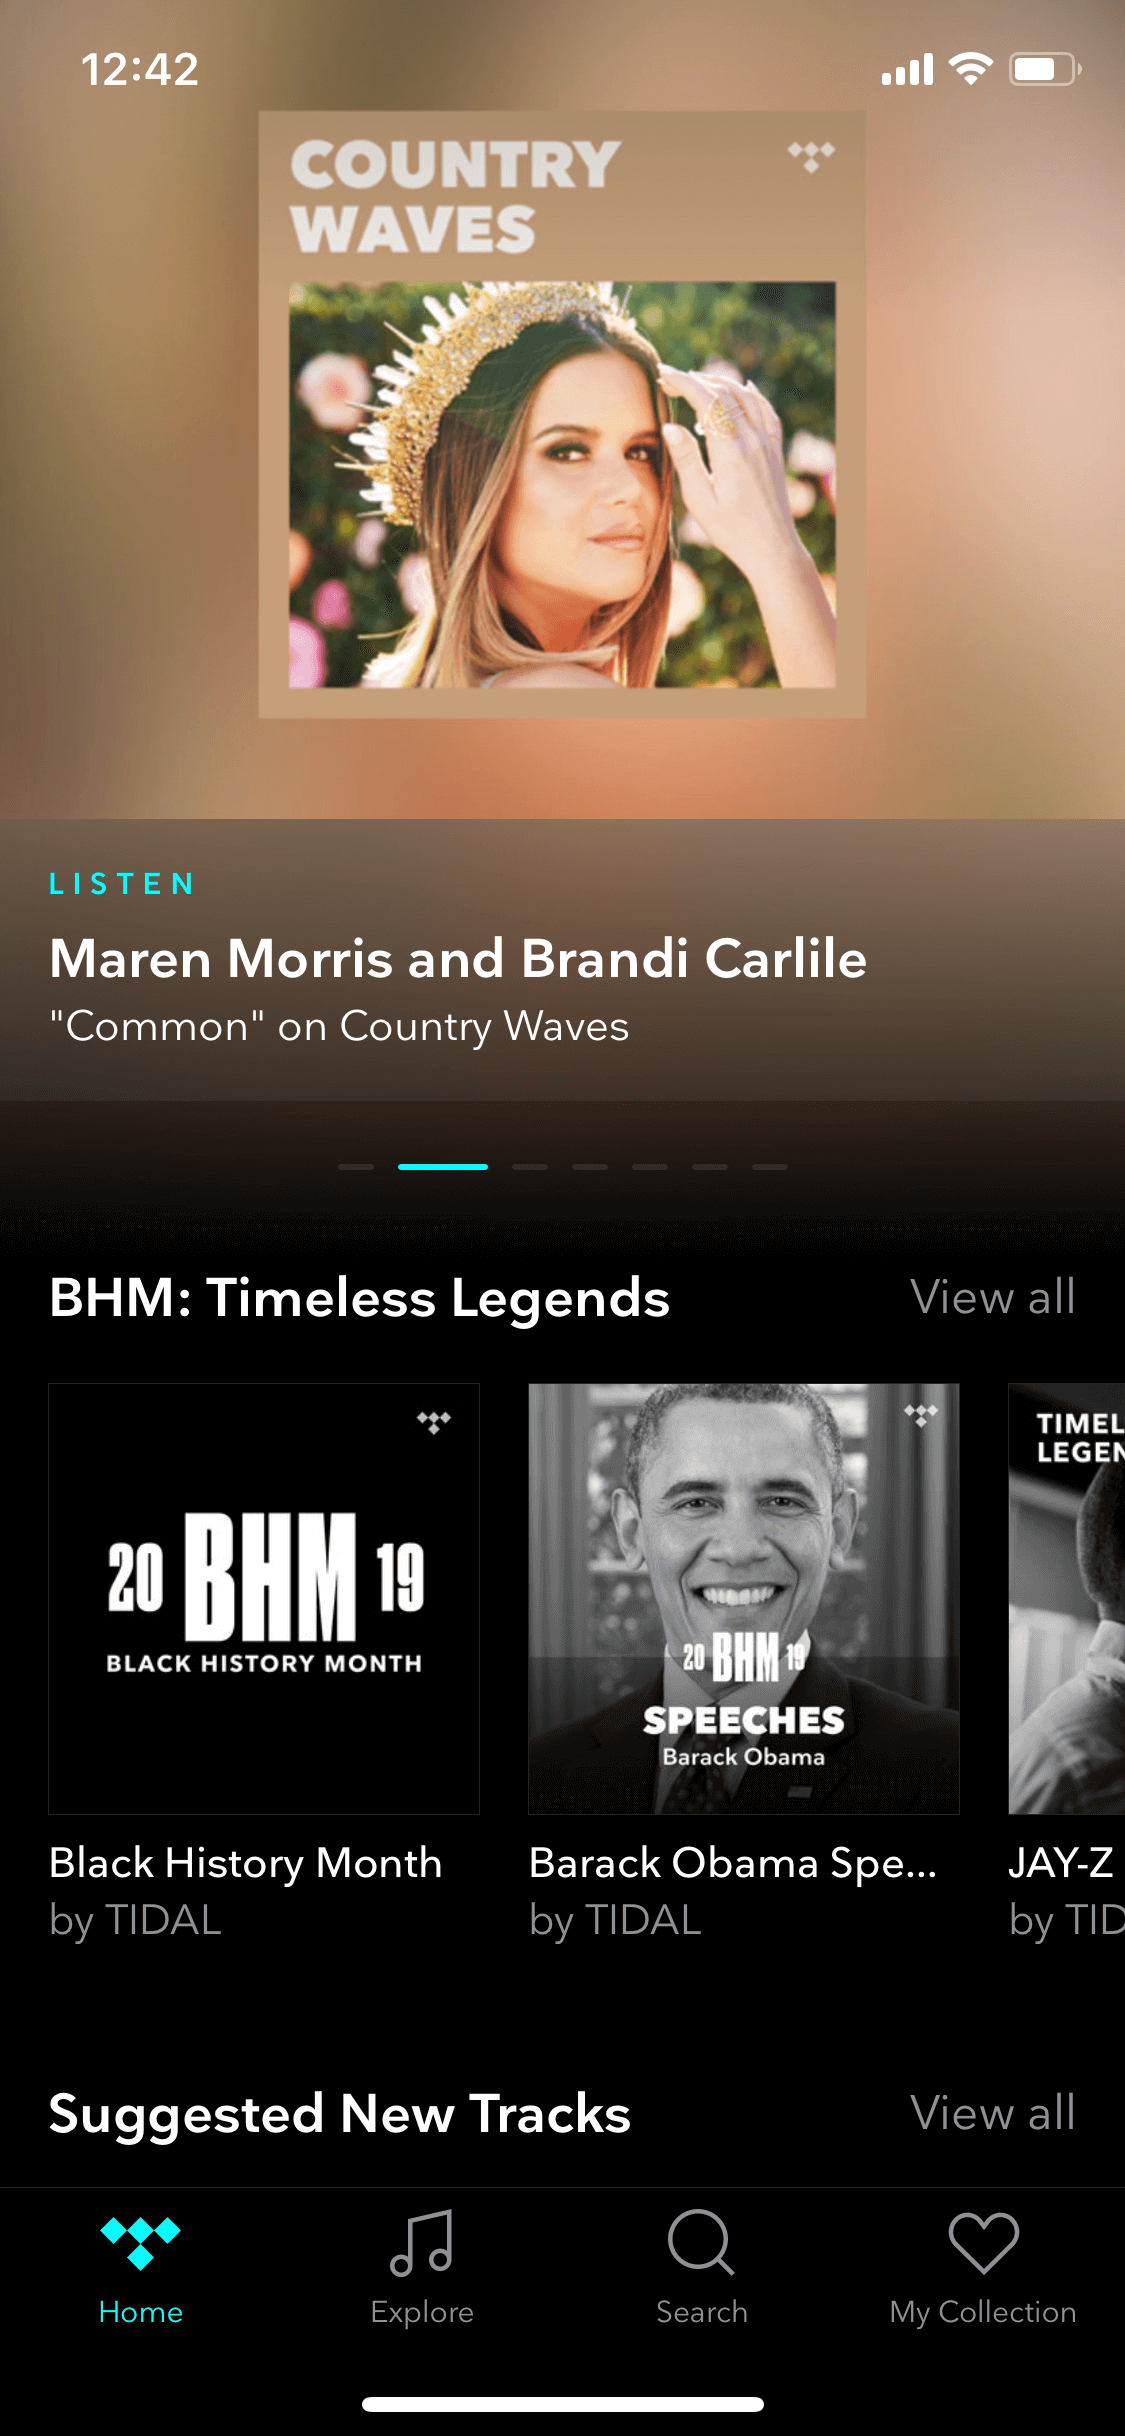Buttons: (890, 2052, 1099, 2149), (887, 1248, 1097, 1339)
Sliders: (301, 1119, 859, 1215)
